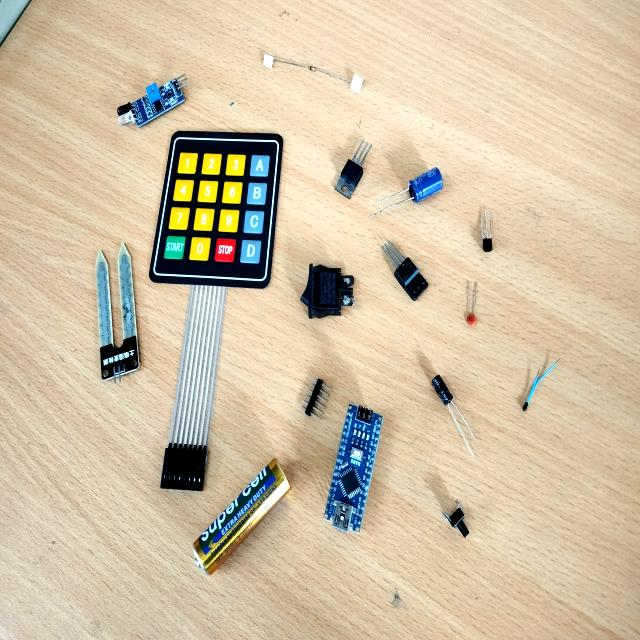capacitor: (409, 168, 443, 202), (432, 375, 453, 405), (467, 314, 477, 325)
